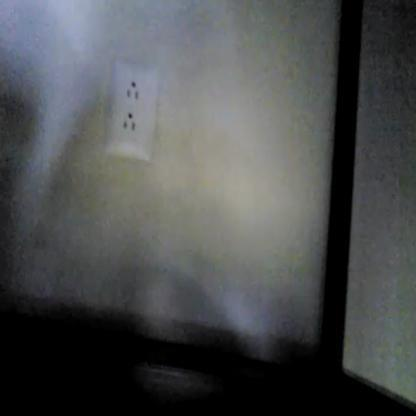OUTLET: (103, 54, 161, 162)
